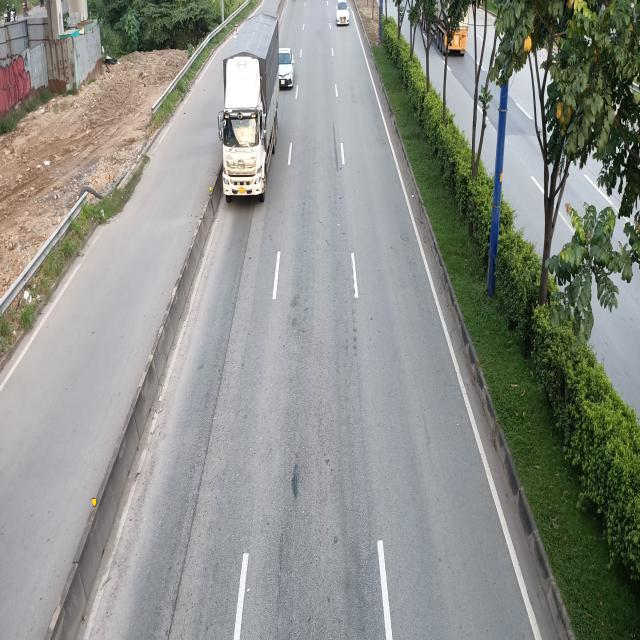car: (279, 47, 295, 88), (334, 0, 350, 25)
truck: (219, 12, 280, 200)
